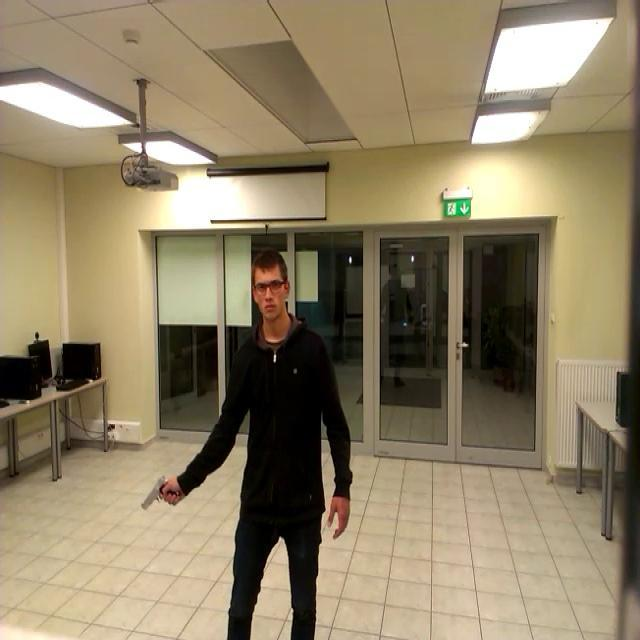Gun: (134, 464, 192, 523)
